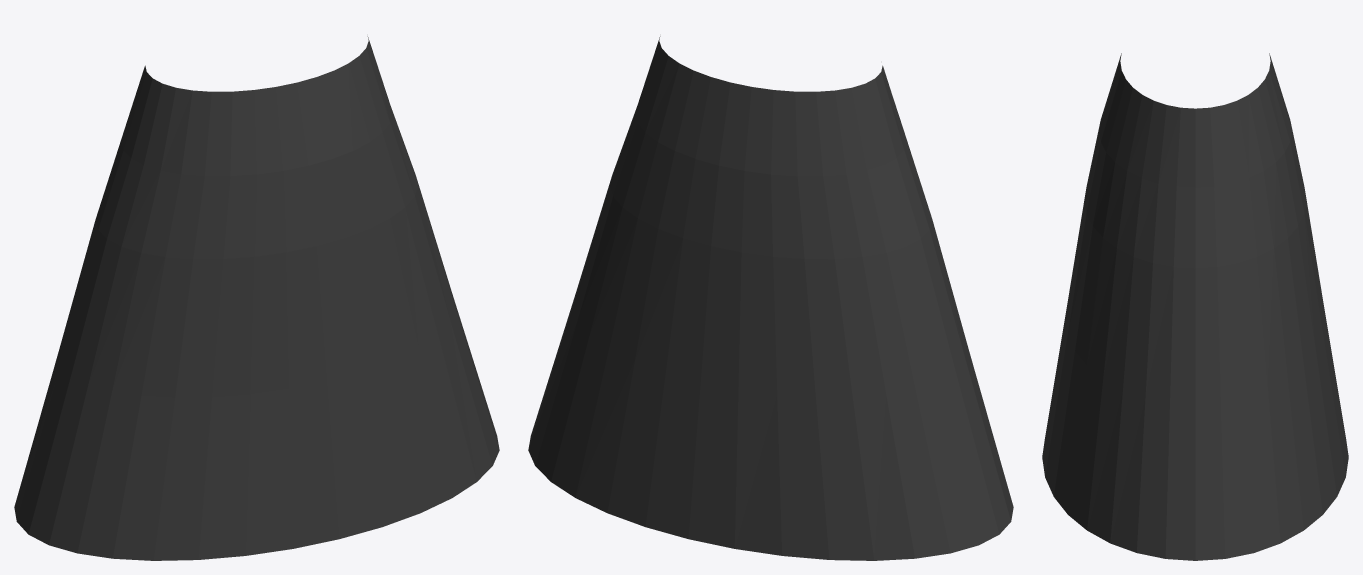
Rendered from skirt_aline.glb.
3 views of the same model, side by side, from view 1: azimuth 30°, elevation 25°; view 2: azimuth 150°, elevation 25°; view 3: azimuth 270°, elevation 25° (orthographic). The views are drawn at different scales.
Visible parts, largest first — view 1: geometry_0; view 2: geometry_0; view 3: geometry_0.
Boxes of the visible parts, x1,y1,x2,y2 form: geometry_0: (14, 36, 499, 560); geometry_0: (528, 36, 1013, 560); geometry_0: (1042, 53, 1348, 560).
Bounding box in the file's own units: 0.64 × 0.57 × 0.4.
Materials: 1 (1 with a texture image).
